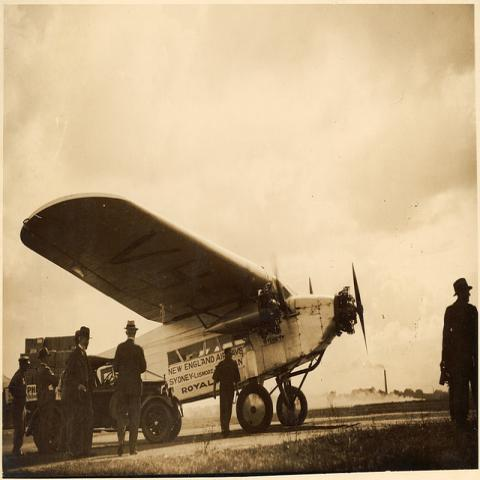truck: (27, 356, 184, 450)
